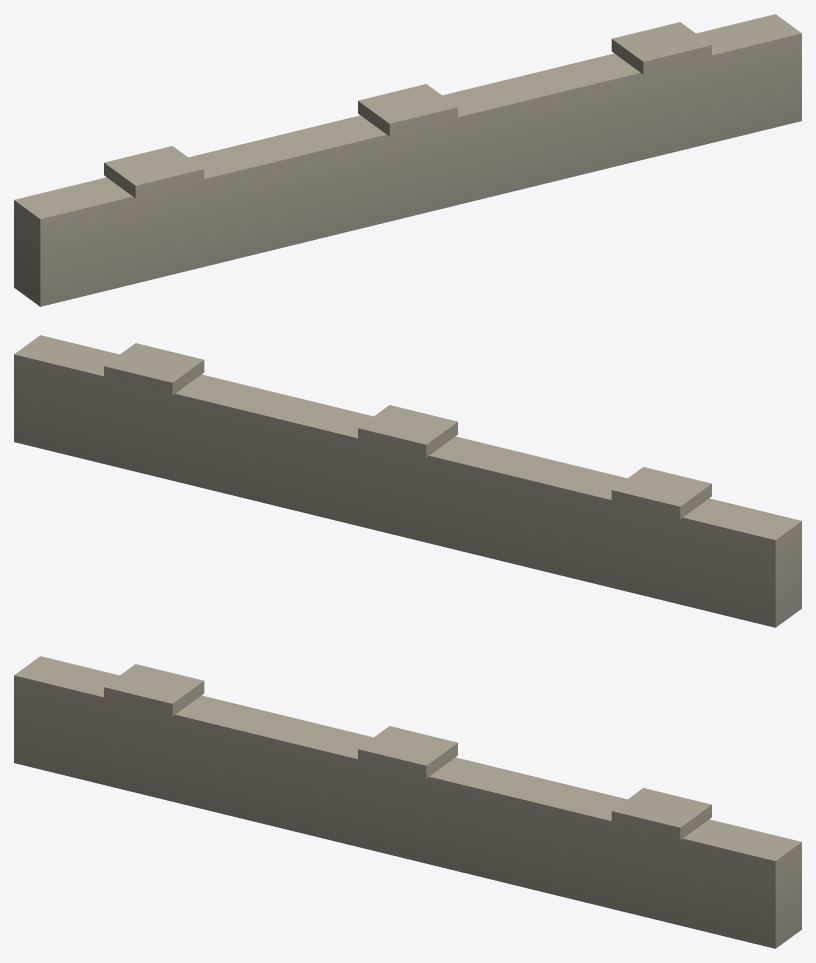
The model's file is republic_corral_wall_lod0.glb.
3 renders of one model, top to bottom at view 1: azimuth 30°, elevation 25°; view 2: azimuth 150°, elevation 25°; view 3: azimuth 330°, elevation 25°, orthographic.
Visible parts, largest first — view 1: GEO-Arch_republic_corral_wall_LOD0; view 2: GEO-Arch_republic_corral_wall_LOD0; view 3: GEO-Arch_republic_corral_wall_LOD0.
Boxes of the visible parts, bbox=[...] form: GEO-Arch_republic_corral_wall_LOD0: bbox=[14, 14, 801, 306]; GEO-Arch_republic_corral_wall_LOD0: bbox=[14, 335, 801, 627]; GEO-Arch_republic_corral_wall_LOD0: bbox=[14, 656, 801, 948].
Bounding box in the file's own units: 10 × 1.26 × 0.72.
